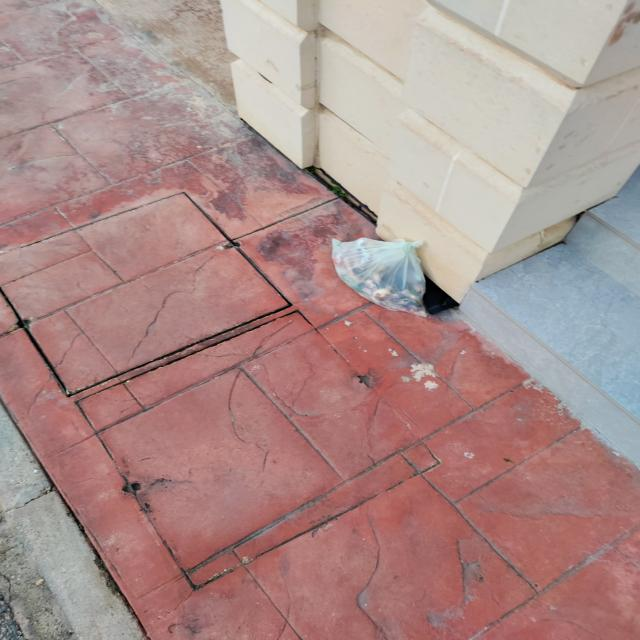Organic Waste: (329, 236, 428, 317)
